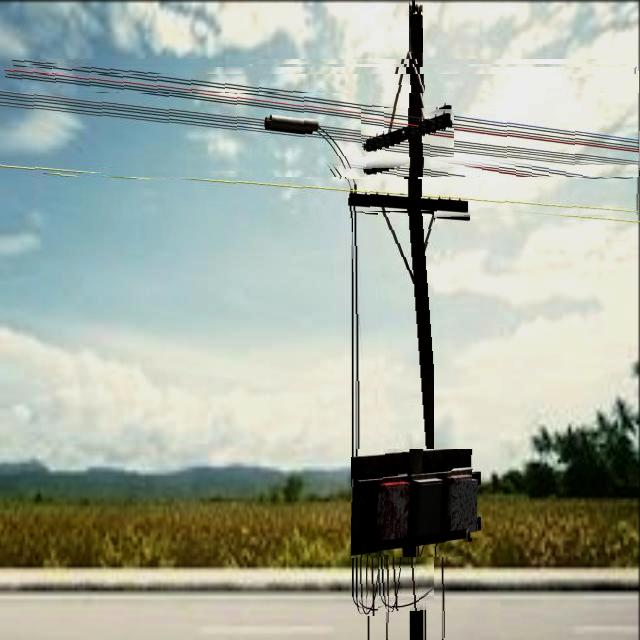crossarm: (351, 449, 472, 558), (363, 53, 452, 151), (349, 197, 474, 219)
pole: (410, 5, 423, 640)
transformer: (381, 484, 413, 551), (447, 473, 478, 538), (417, 479, 448, 538)
wire: (13, 64, 640, 154), (1, 99, 626, 179), (0, 94, 640, 167), (5, 74, 639, 146), (0, 90, 549, 171), (13, 59, 639, 128), (5, 67, 634, 132), (0, 96, 481, 177), (0, 163, 638, 217), (350, 212, 434, 612), (0, 103, 629, 155), (354, 213, 378, 616), (362, 109, 454, 157), (439, 543, 445, 640), (385, 556, 389, 640), (366, 556, 370, 637)
